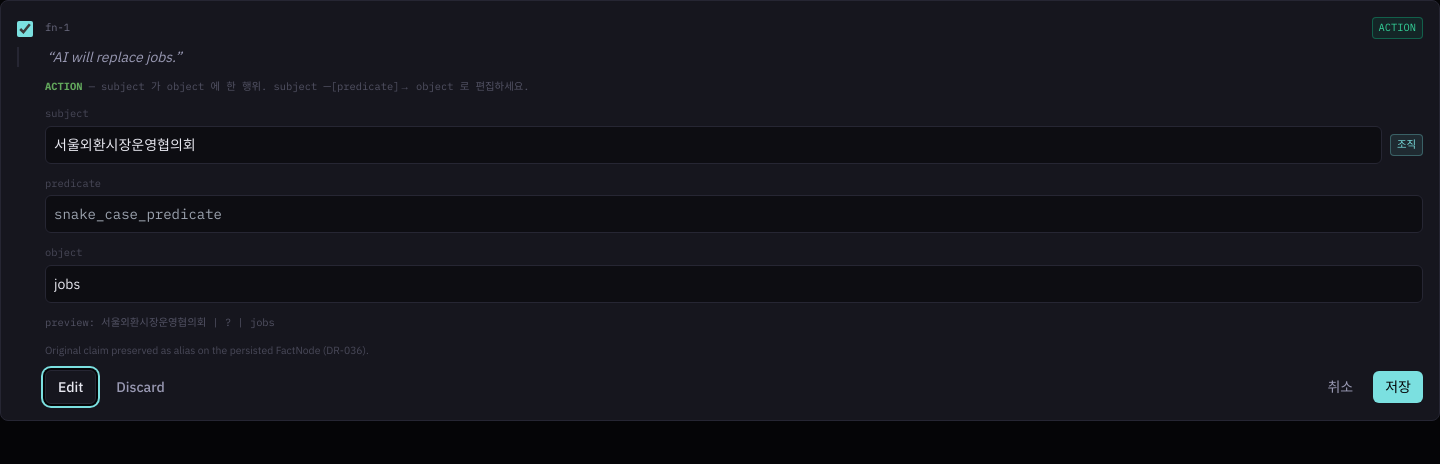
it: FactCard — predicate autocomplete (spo-pending-ux) › filters cached predicates and chip click sets editedPredicate
Later steps or results of the test are not shown.
Type "plan" into the field with test id "fact-edit-predicate-fn-1" at (734, 214), box [45, 195, 1423, 233]
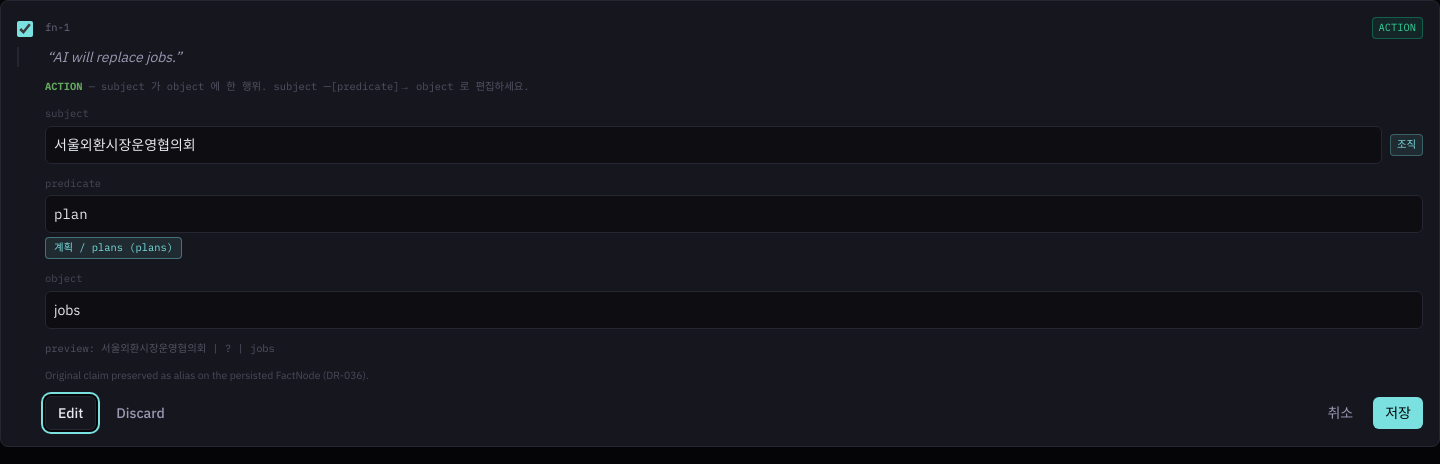
expect the button with test id "predicate-chip-plans" is shown: met, box [45, 237, 182, 259]
